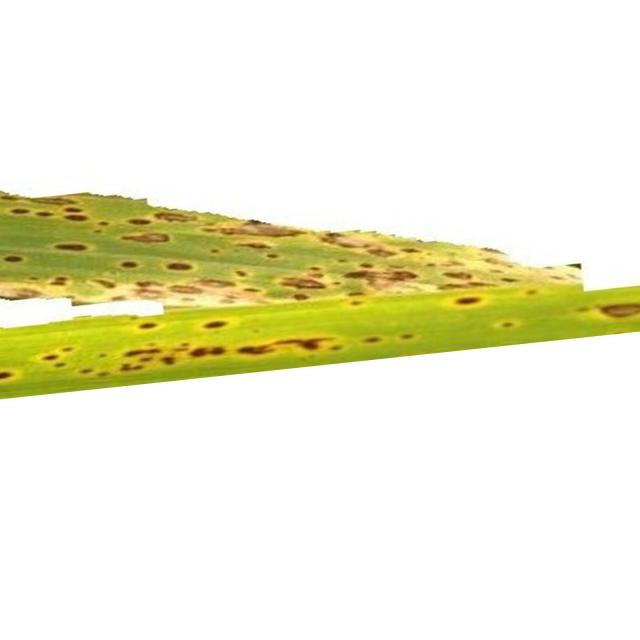Brown_Spot: (439, 271, 486, 290), (320, 232, 360, 248), (600, 304, 640, 318), (135, 280, 164, 299), (291, 338, 331, 351), (122, 232, 170, 242), (282, 278, 325, 289), (155, 211, 196, 222), (365, 244, 396, 258), (190, 346, 226, 358), (344, 269, 376, 279), (240, 345, 271, 355), (390, 270, 418, 281), (170, 285, 202, 294), (125, 348, 160, 356), (55, 242, 86, 251), (206, 279, 235, 288), (166, 261, 192, 271), (455, 296, 482, 305), (92, 279, 116, 289), (239, 242, 270, 249), (204, 320, 228, 329), (50, 276, 68, 286), (139, 321, 158, 330), (120, 260, 139, 269), (65, 214, 88, 221), (120, 364, 142, 371), (129, 219, 151, 225), (41, 354, 59, 361), (161, 356, 175, 365), (4, 255, 22, 262), (11, 208, 30, 214), (0, 371, 14, 379), (501, 321, 515, 329), (64, 206, 82, 212), (364, 336, 381, 342), (401, 248, 421, 253), (400, 332, 414, 339), (266, 252, 279, 259), (36, 211, 52, 216), (61, 346, 74, 352), (80, 368, 92, 374), (330, 345, 342, 351), (55, 362, 65, 368), (98, 371, 110, 376), (351, 300, 361, 305), (99, 354, 108, 358)
